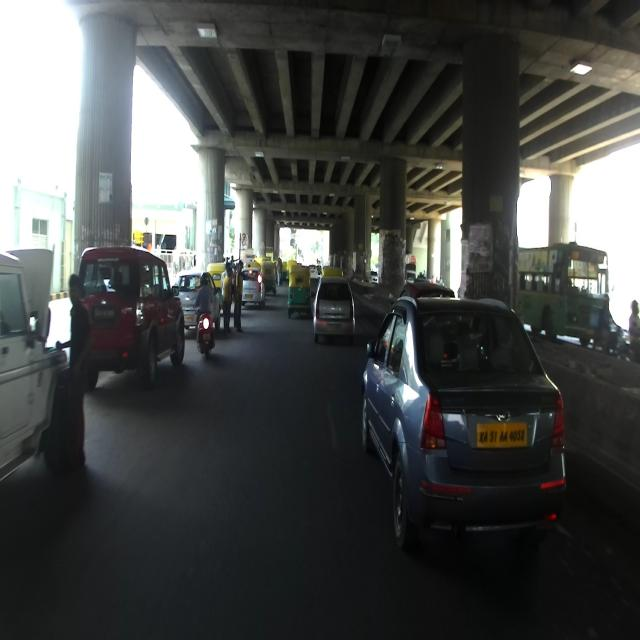Car_Mahindra: (360, 296, 566, 554), (77, 244, 185, 390)
